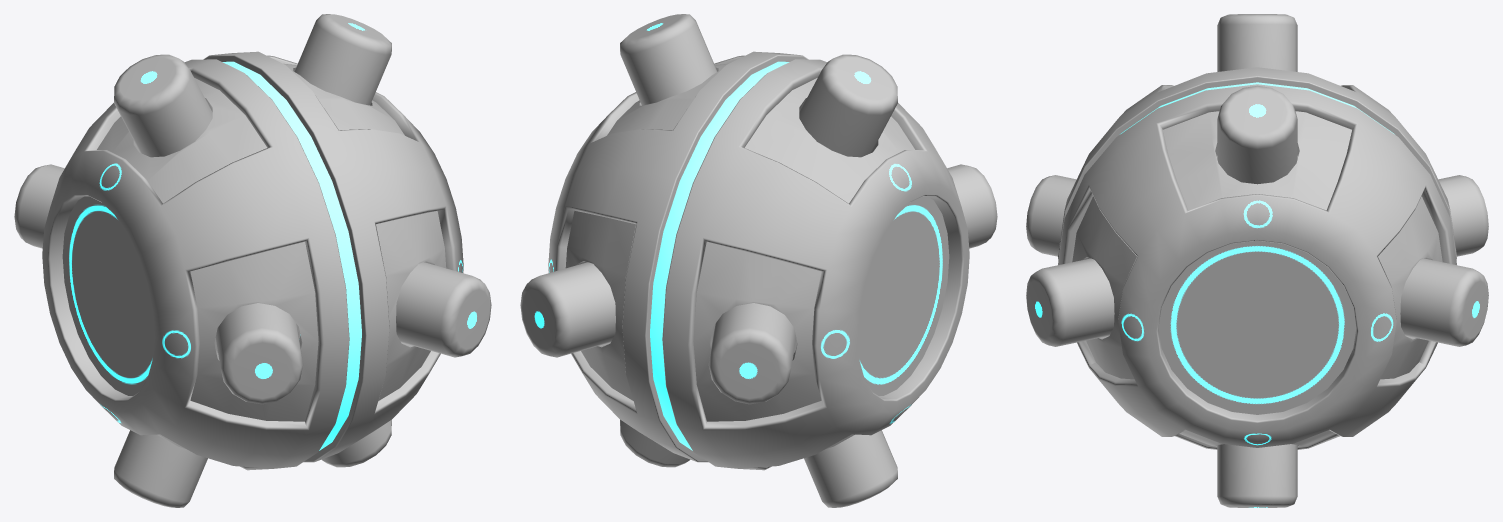
Rendered from Space Bomb 3.fbx.
3 renders of one model, left to right at view 1: azimuth 30°, elevation 25°; view 2: azimuth 150°, elevation 25°; view 3: azimuth 270°, elevation 25°, orthographic. The views are drawn at different scales.
Parts seen in each view (by area): view 1: Space Bomb 3; view 2: Space Bomb 3; view 3: Space Bomb 3.
Part boxes in pixels (x1,y1,x2,y2): Space Bomb 3: (14, 14, 491, 507); Space Bomb 3: (520, 14, 997, 507); Space Bomb 3: (1026, 14, 1488, 507).
Size of the model in its own units: 63.12 by 87.53 by 87.53.
